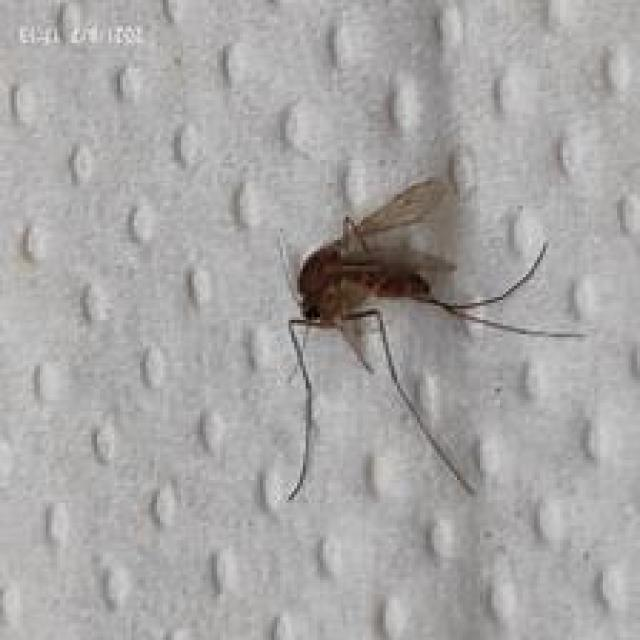Culex: (273, 174, 587, 503)
